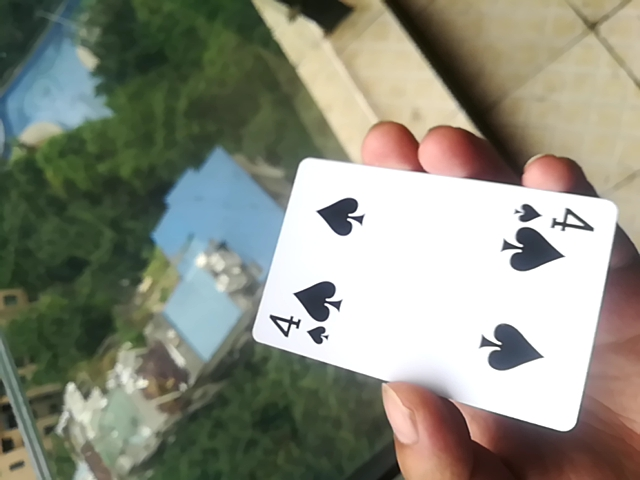ht 4: (233, 152, 625, 431)
